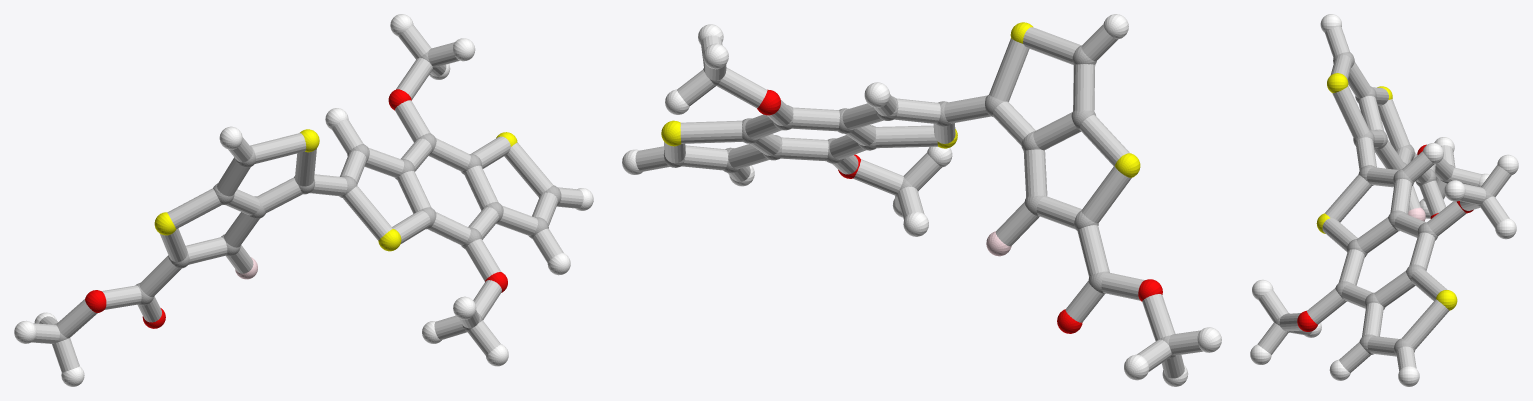
File: color.glb
3 renders of one model, left to right at view 1: azimuth 30°, elevation 25°; view 2: azimuth 150°, elevation 25°; view 3: azimuth 270°, elevation 25°, orthographic. The views are drawn at different scales.
Parts seen in each view (by area): view 1: grp15205, grp8689, grp1, grp7241, grp13395; view 2: grp15205, grp8689, grp1, grp13395, grp7241; view 3: grp15205, grp8689, grp1, grp7241, grp13395.
Part boxes in pixels (x1,y1,x2,y2): grp15205: (32, 25, 583, 372); grp8689: (14, 14, 593, 386); grp1: (54, 51, 561, 342); grp7241: (154, 129, 517, 251); grp13395: (85, 89, 507, 328); grp15205: (635, 24, 1202, 378); grp8689: (622, 14, 1221, 386); grp1: (664, 45, 1175, 358); grp13395: (757, 89, 1162, 333); grp7241: (661, 22, 1140, 177); grp15205: (1257, 26, 1511, 372); grp8689: (1250, 14, 1518, 386); grp1: (1274, 52, 1492, 355); grp7241: (1316, 73, 1457, 310); grp13395: (1297, 144, 1473, 331).
Size of the model in its own units: 16.64 by 7.72 by 7.49.
